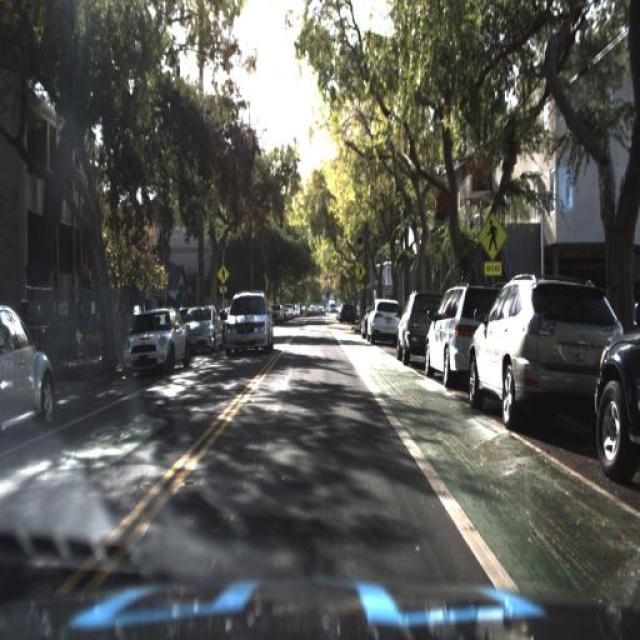car: (468, 270, 624, 426), (590, 294, 640, 484), (0, 302, 59, 451), (420, 282, 492, 382), (117, 304, 188, 376), (394, 287, 444, 369), (223, 288, 279, 357), (224, 280, 270, 360), (181, 300, 225, 360), (366, 294, 400, 344), (357, 296, 371, 346), (337, 294, 357, 327)
